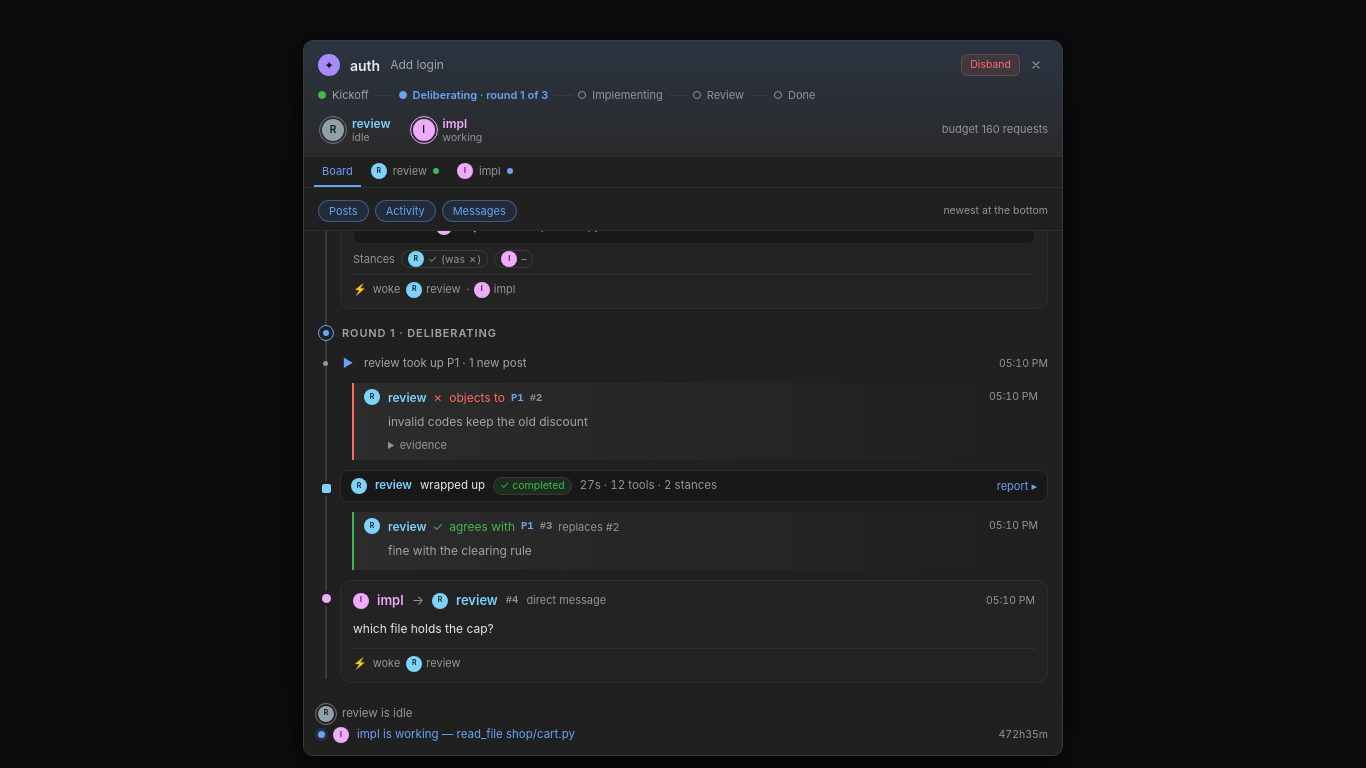
Scenario: TeamWindow board › stances are replies; a later one says what it replaces
(page scrolled)
Expected: the text "objects to" is shown, [449,389,505,407]
Expected: the text "replaces #2" is shown, [558,519,620,535]
Click the heading "evidence". click: (423, 445)
box: [400,438,447,452]
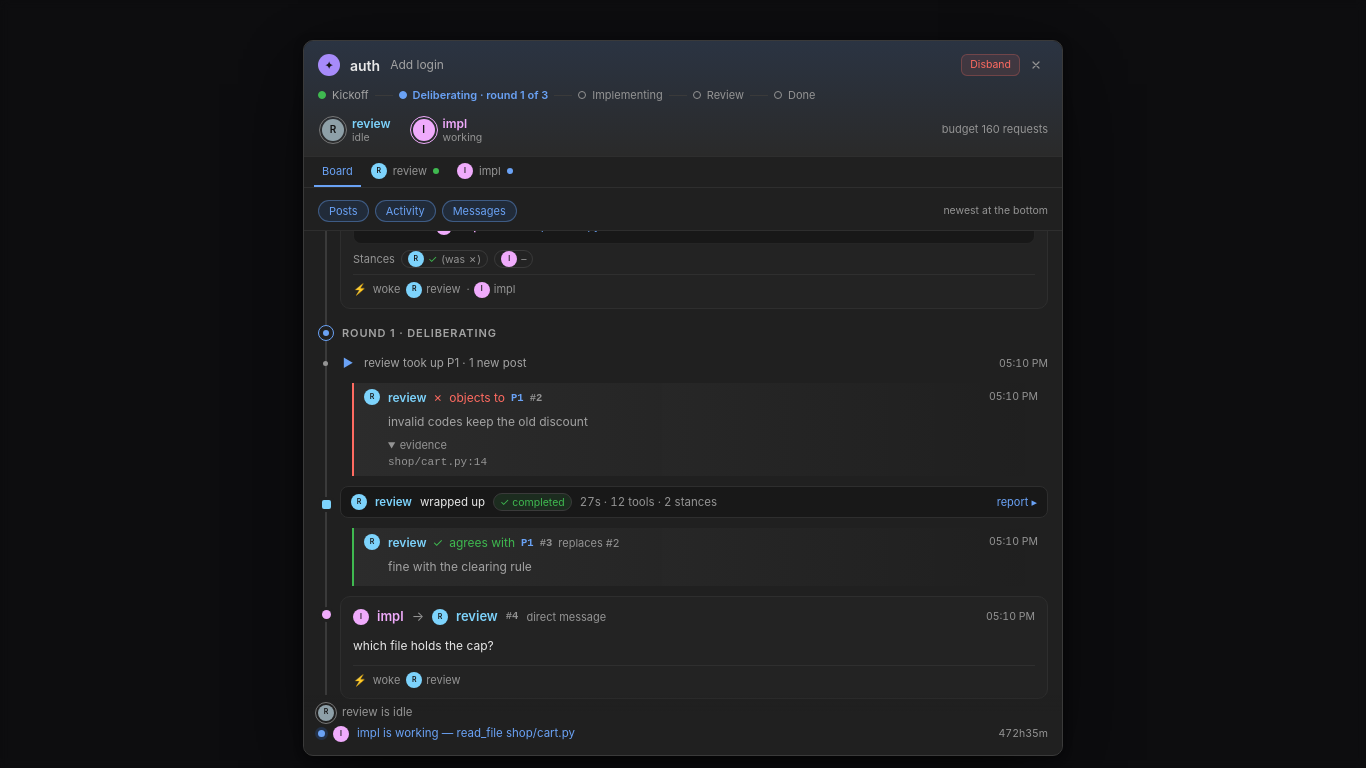
Expected: the text "shop/cart.py:14" is shown, [388,456,487,468]
